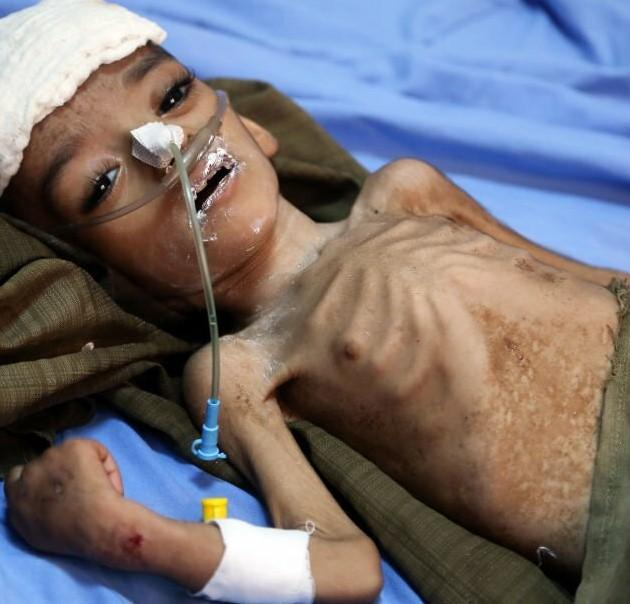Stunting: (48, 63, 322, 378)
